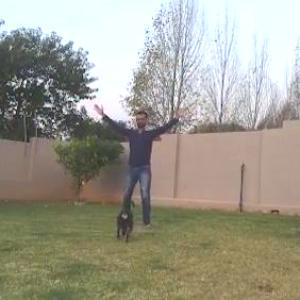takeoff: (99, 105, 194, 222)
